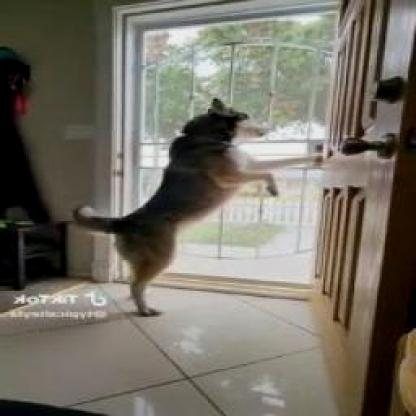dog: (71, 96, 330, 315)
